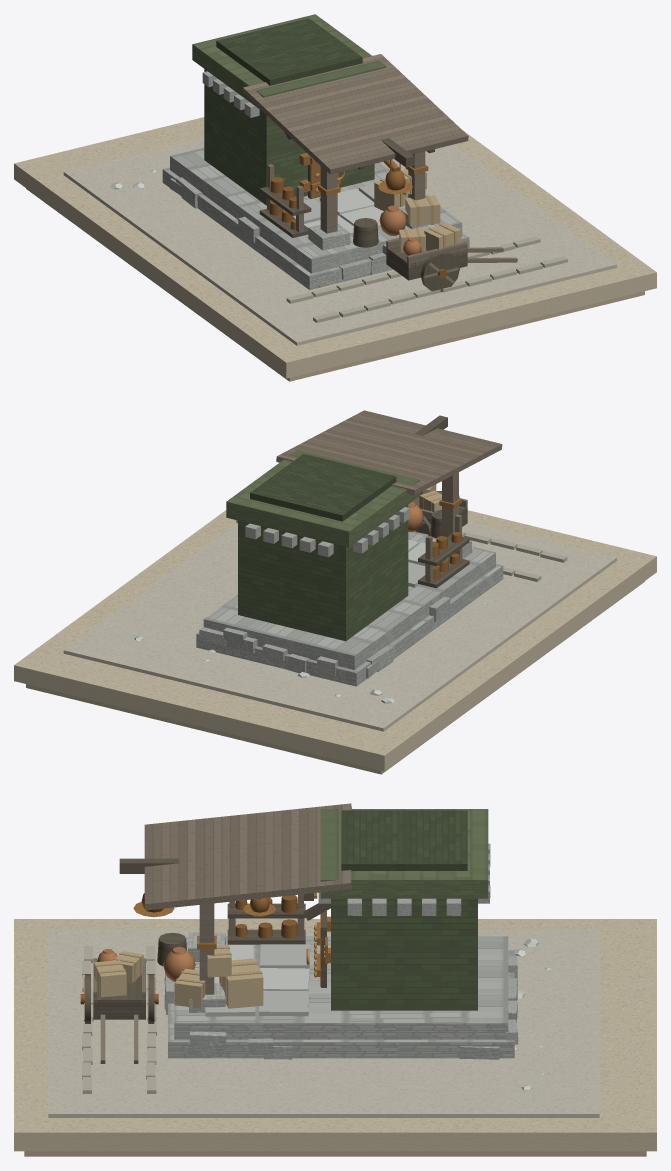
File: civic-bronze-age-weigh-house-built.glb
3 views of the same model, one above another, from view 1: azimuth 30°, elevation 25°; view 2: azimuth 150°, elevation 25°; view 3: azimuth 270°, elevation 25° (orthographic). The views are drawn at different scales.
Size of the model in its own units: 22 by 9.96 by 28.
Materials: 37 (26 with a texture image).
